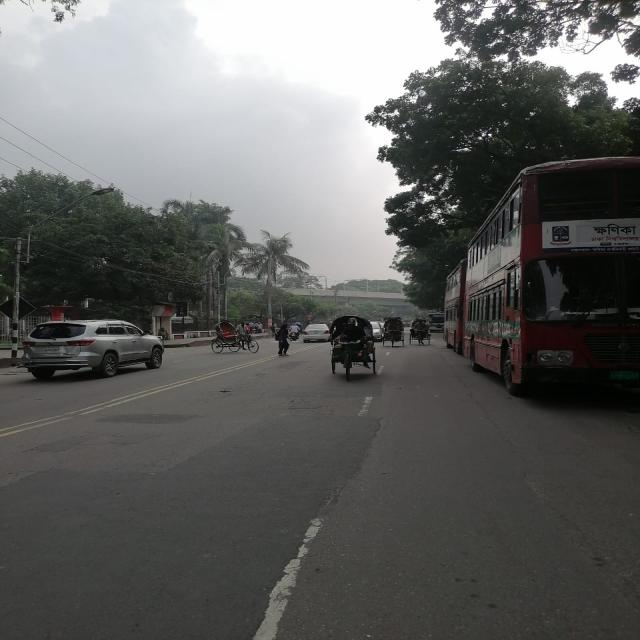person: (276, 324, 289, 356)
